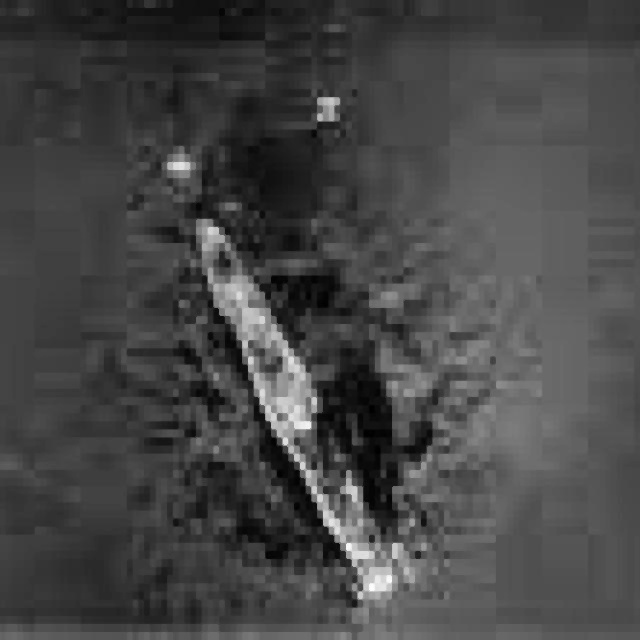Ship: (184, 200, 430, 624)
